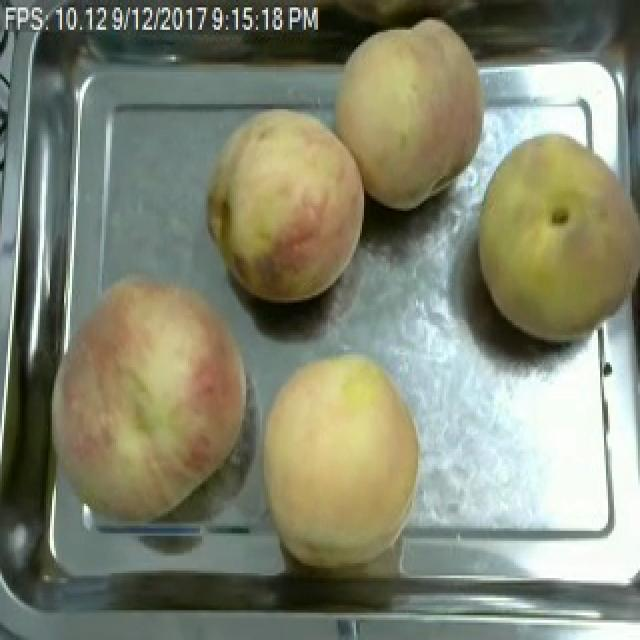Fruit: (32, 263, 260, 531), (240, 340, 430, 575), (464, 122, 640, 354), (198, 99, 374, 310), (322, 8, 496, 218)
